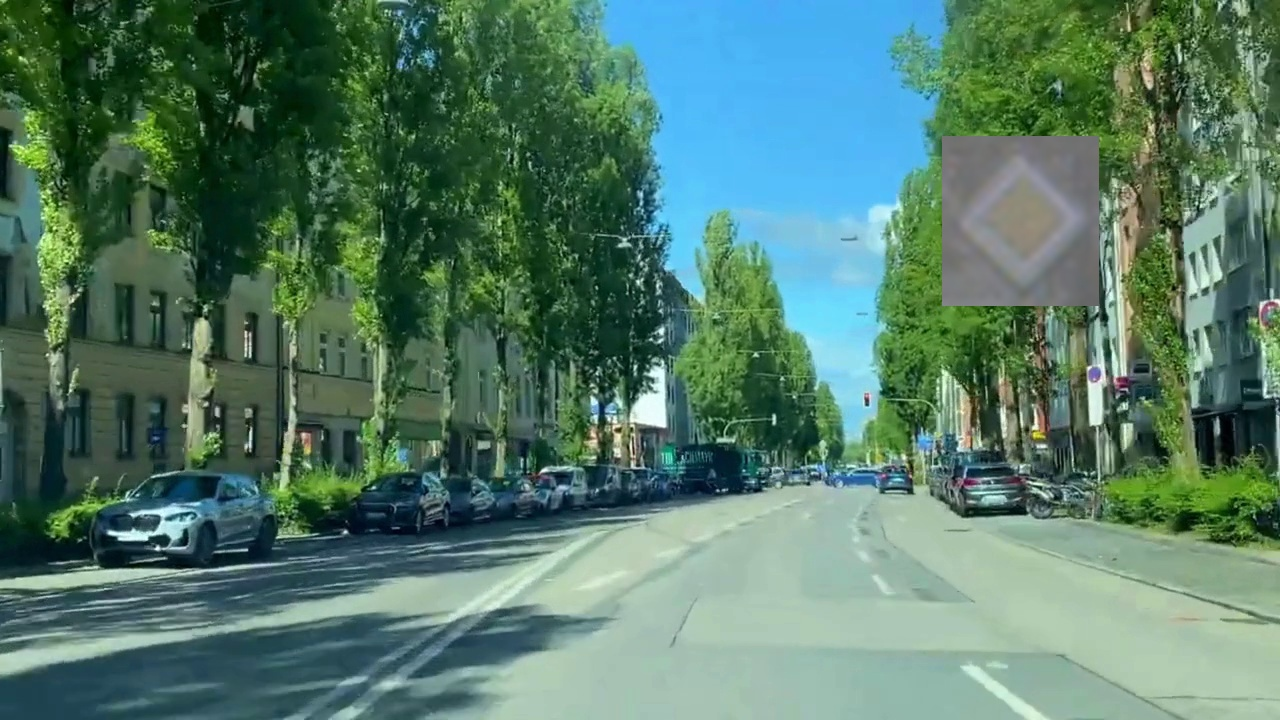Priority road: (942, 136, 1099, 306)
